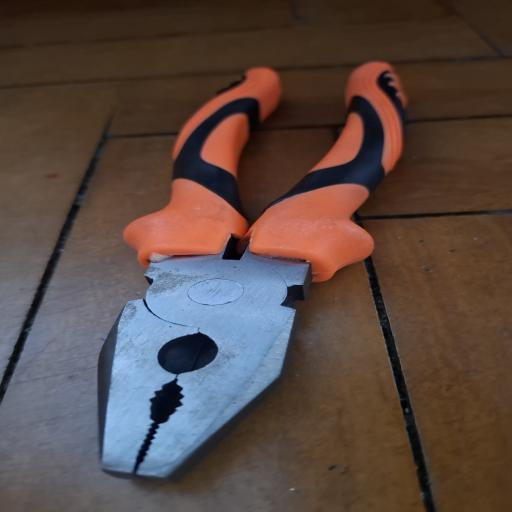alicate: (92, 62, 416, 490)
